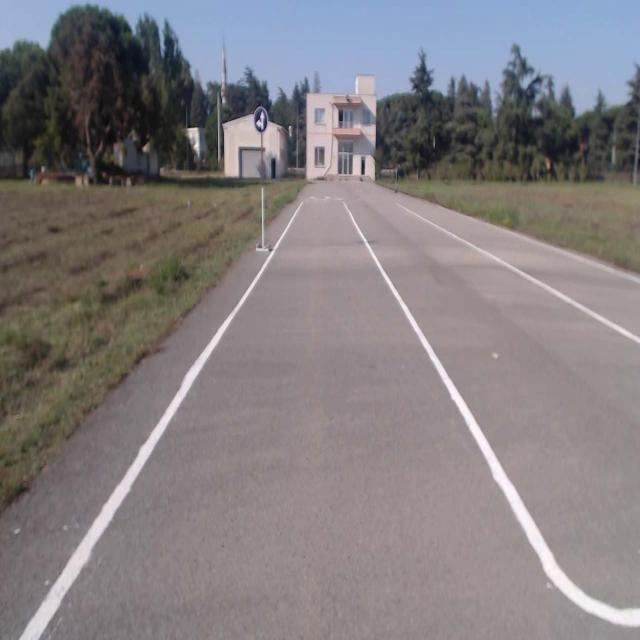ilerisol: (255, 108, 266, 133)
